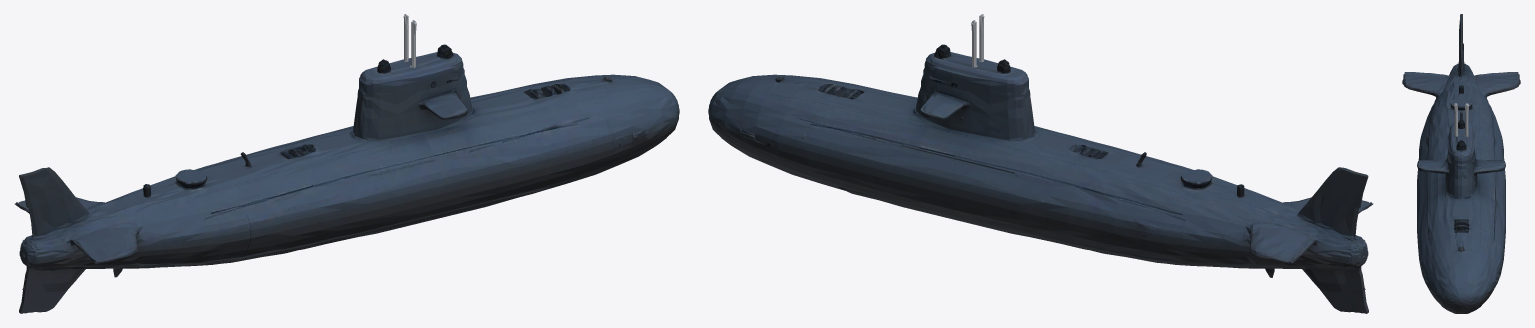
File: hunter_LOD0.glb
3 renders of one model, left to right at view 1: azimuth 30°, elevation 25°; view 2: azimuth 150°, elevation 25°; view 3: azimuth 270°, elevation 25°, orthographic. The views are drawn at different scales.
Parts seen in each view (by area): view 1: hunter_LOD0; view 2: hunter_LOD0; view 3: hunter_LOD0.
Part boxes in pixels (bbox=[...]): hunter_LOD0: bbox=[14, 14, 679, 313]; hunter_LOD0: bbox=[708, 14, 1373, 313]; hunter_LOD0: bbox=[1402, 14, 1520, 313].
Bounding box in the file's own units: 0.9993 × 0.2973 × 0.221.
Materials: 1 (1 with a texture image).
